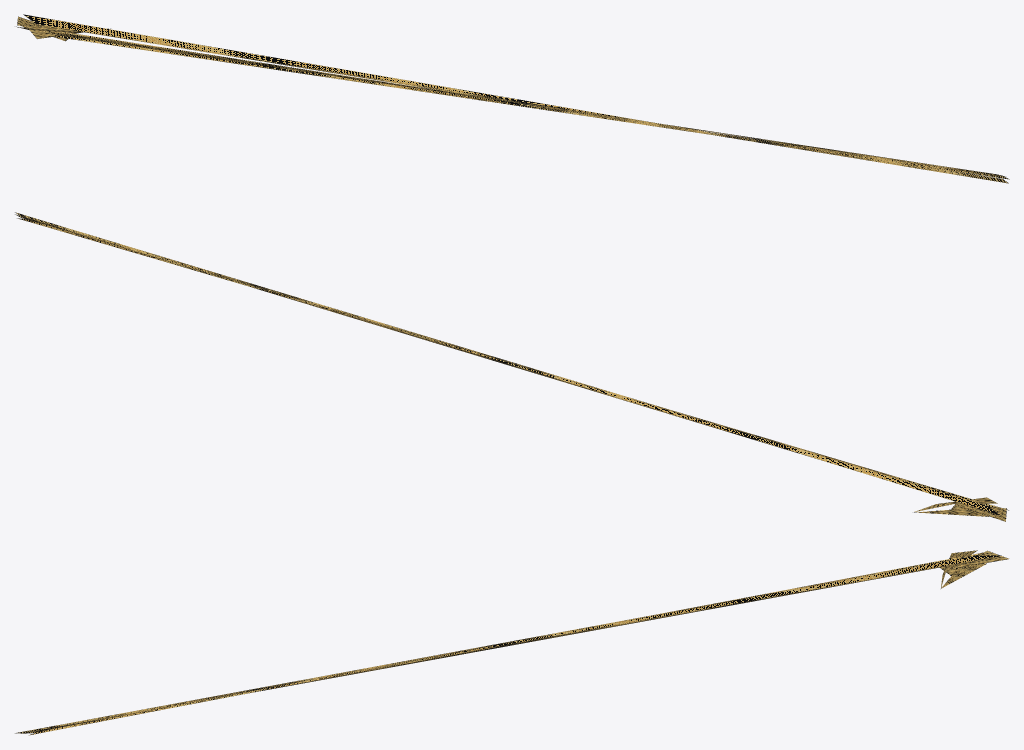
The picture shows the model from 3 angles, top to bottom: view 1: azimuth 30°, elevation 25°; view 2: azimuth 210°, elevation 25°; view 3: azimuth 270°, elevation 25°; orthographic projection.
Parts seen in each view (by area): view 1: ef_750; view 2: ef_750; view 3: ef_750.
Part boxes in pixels (x1,y1,x2,y2): ef_750: (16,14,1009,183); ef_750: (15,212,1008,521); ef_750: (15,550,1008,735).
Size of the model in its own units: 6.82 by 0.9653 by 11.21.
Materials: 1 (1 with a texture image).
